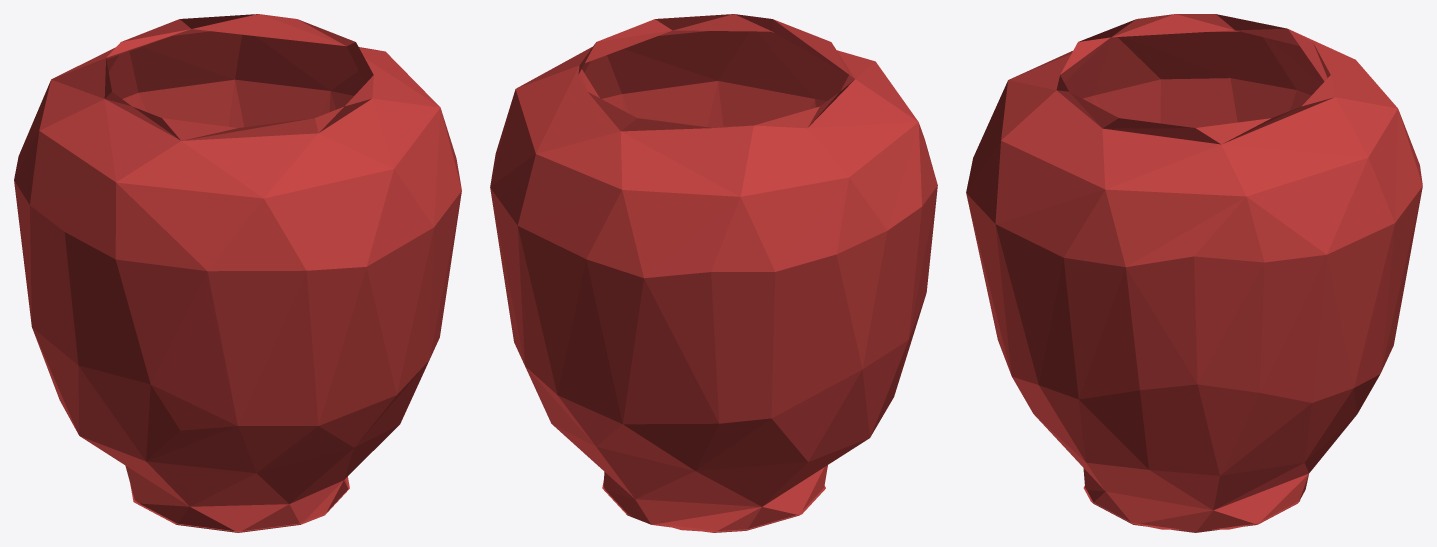
File: vase.fbx
3 renders of one model, left to right at view 1: azimuth 30°, elevation 25°; view 2: azimuth 150°, elevation 25°; view 3: azimuth 270°, elevation 25°, orthographic.
Parts seen in each view (by area): view 1: vase; view 2: vase; view 3: vase.
Boxes of the visible parts, x1,y1,x2,y2 form: vase: (14, 14, 461, 532); vase: (490, 14, 937, 532); vase: (966, 14, 1422, 532).
Bounding box in the file's own units: 196 × 204 × 203.
